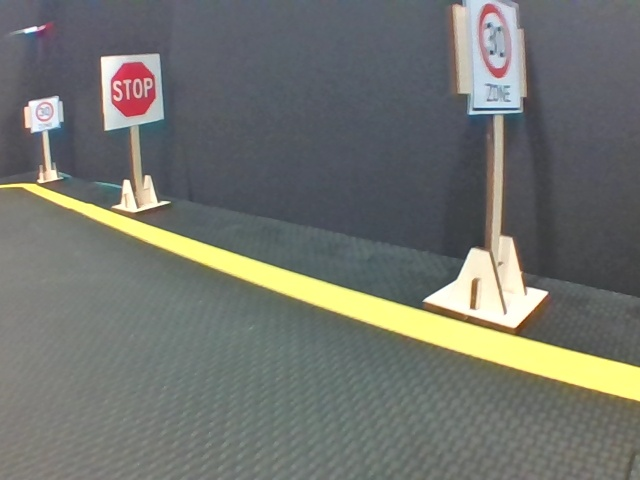30: (467, 1, 521, 113), (28, 100, 59, 130)
stop: (100, 56, 163, 123)
